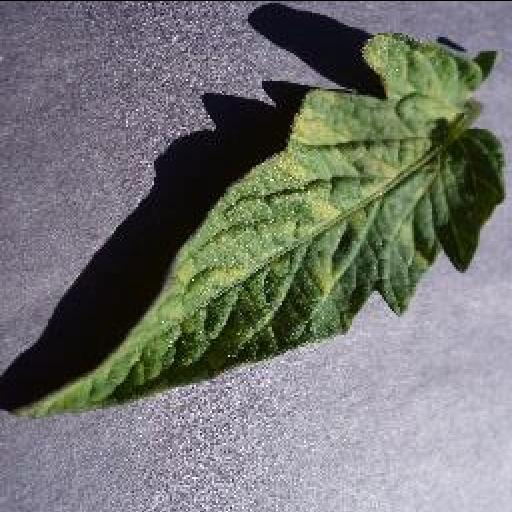disease_tomato: (14, 30, 506, 418)
